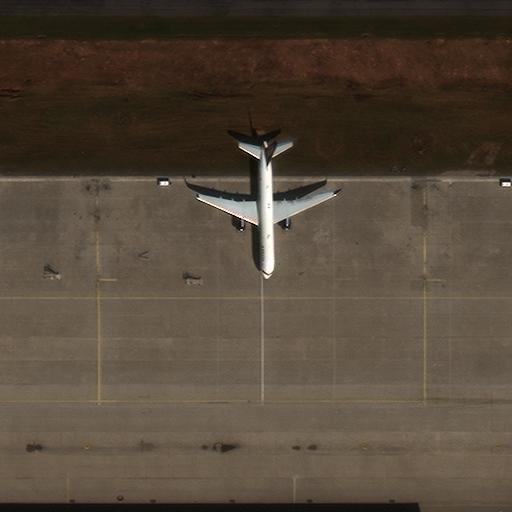Large Civil Transport: (197, 139, 336, 280)
